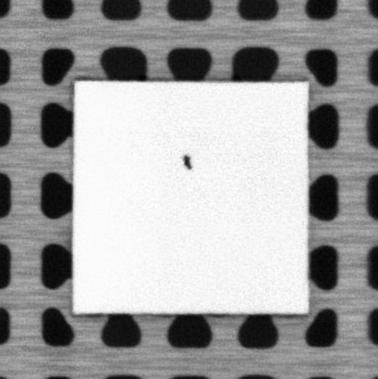DIE_INK: (182, 152, 193, 169)
